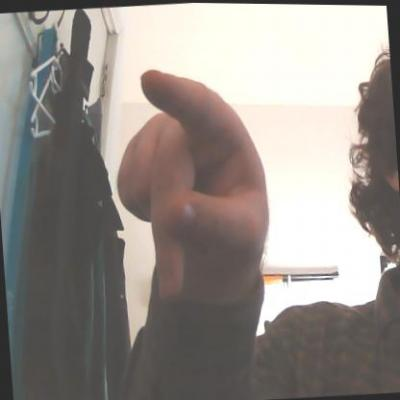hand: (107, 61, 276, 306)
